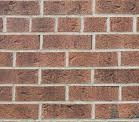brick: (41, 104, 93, 122), (42, 34, 92, 50), (94, 33, 139, 50), (15, 52, 66, 67), (95, 104, 139, 121), (69, 52, 118, 67), (1, 33, 41, 51), (41, 69, 91, 83), (43, 1, 92, 15), (1, 104, 40, 121), (15, 87, 65, 100), (69, 87, 119, 100), (93, 69, 139, 83), (95, 1, 139, 15), (1, 69, 38, 84), (1, 1, 40, 15), (31, 16, 56, 32), (6, 15, 30, 31), (57, 16, 81, 32), (110, 16, 134, 32), (83, 16, 107, 31), (121, 52, 139, 66), (122, 86, 139, 100), (1, 52, 14, 67), (1, 86, 14, 101)
